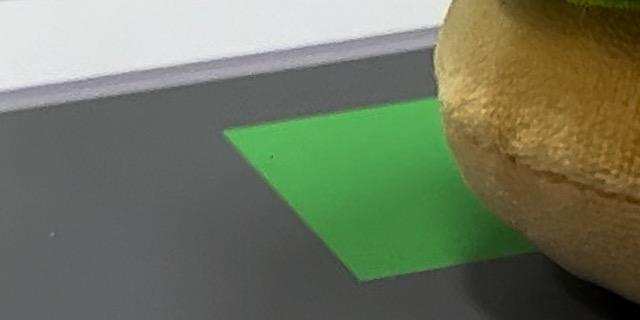burger: (388, 0, 640, 320)
